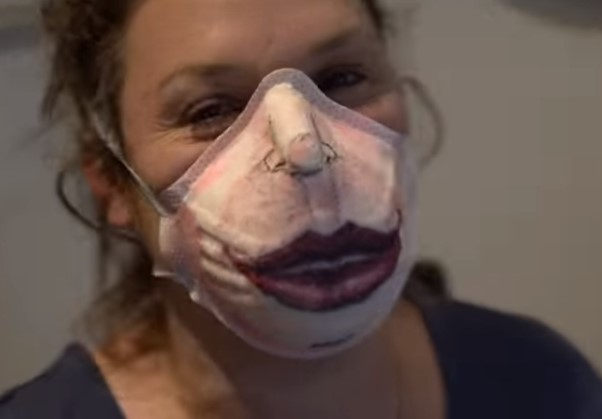face_with_mask: (60, 1, 431, 367)
